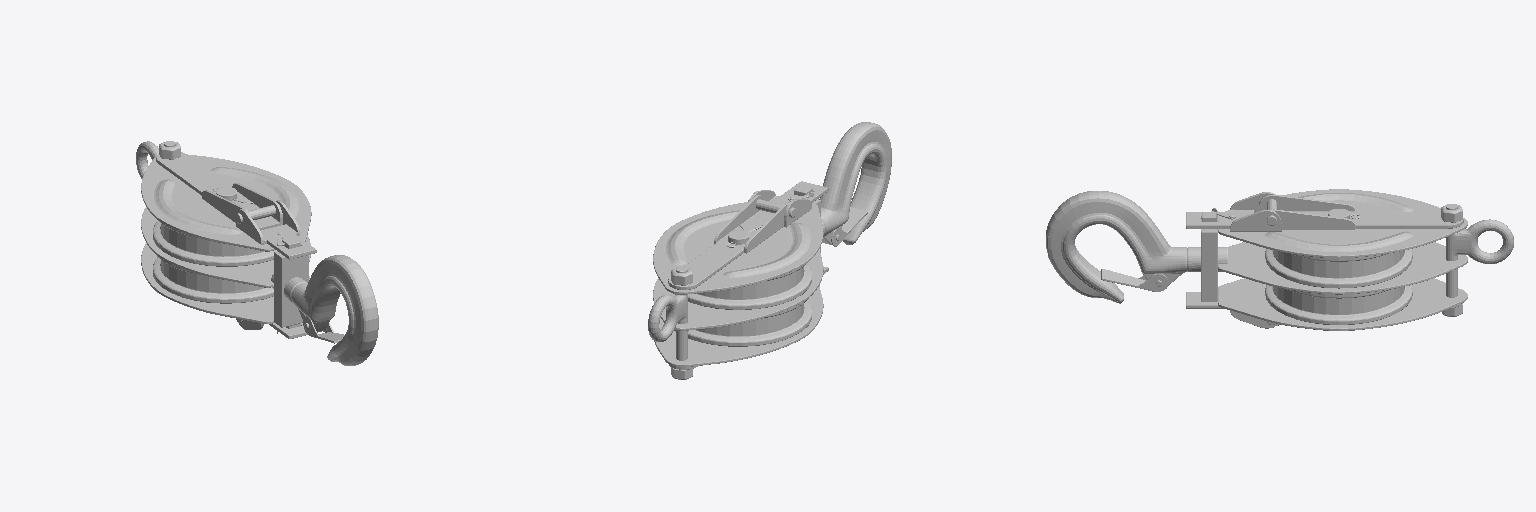
Rendered from 14069_Pulley_Hook_ Double_fixed_eyelet_v2_L2.obj.
3 renders of one model, left to right at view 1: azimuth 30°, elevation 25°; view 2: azimuth 150°, elevation 25°; view 3: azimuth 270°, elevation 25°, orthographic.
Parts seen in each view (by area): view 1: 14069_Pulley_Hook__Double_fixed_eyelet_v2; view 2: 14069_Pulley_Hook__Double_fixed_eyelet_v2; view 3: 14069_Pulley_Hook__Double_fixed_eyelet_v2.
Boxes of the visible parts, x1=… form: 14069_Pulley_Hook__Double_fixed_eyelet_v2: x1=136, y1=141, x2=378, y2=365; 14069_Pulley_Hook__Double_fixed_eyelet_v2: x1=648, y1=122, x2=891, y2=379; 14069_Pulley_Hook__Double_fixed_eyelet_v2: x1=1046, y1=189, x2=1513, y2=330.
Size of the model in its own units: 4.67 by 4.1 by 13.76.